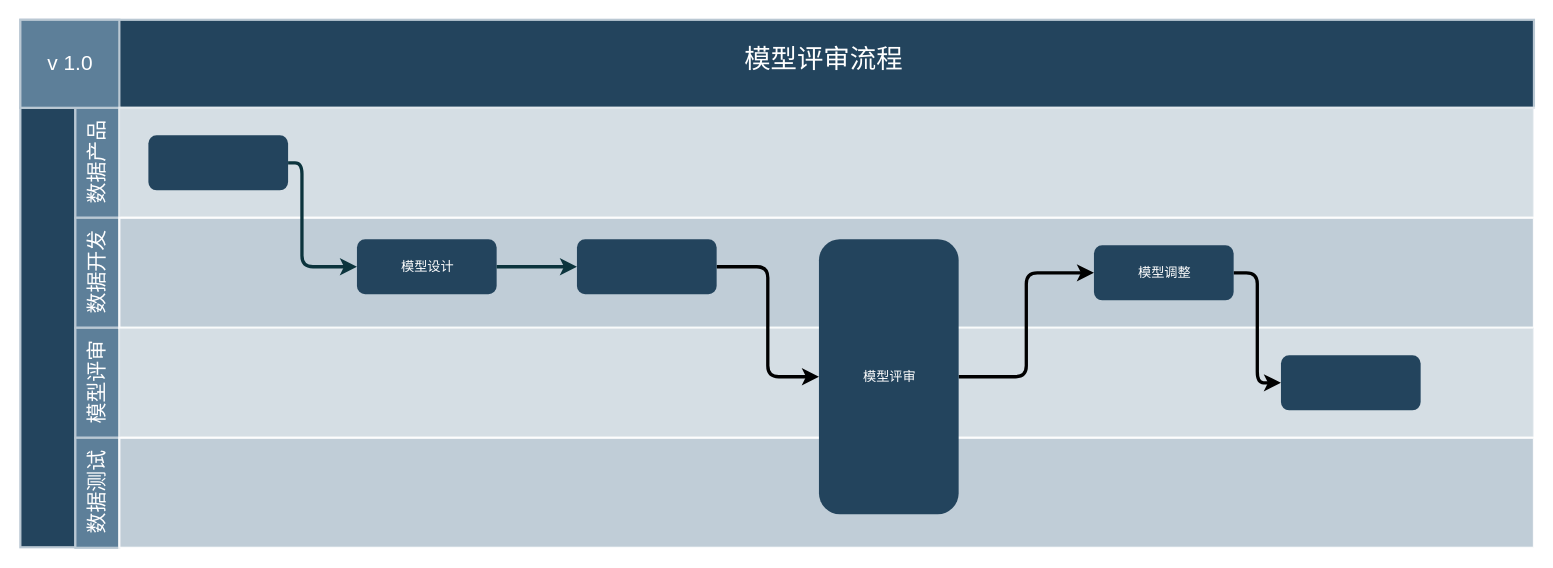
The diagram is 1553 pixels wide and 568 high, and some of its shapes have lost their labels. Here are the shapes that lost their labels. From the top down, the centre of each, then its label:
pixel 218 162: 数据需求wiki、jira创建
pixel 646 266: 模型评审申请邮件发送到 相关评审人
pixel 47 327: 角色
pixel 1350 382: 模型评分更新，评审邮件通过邮件发送
